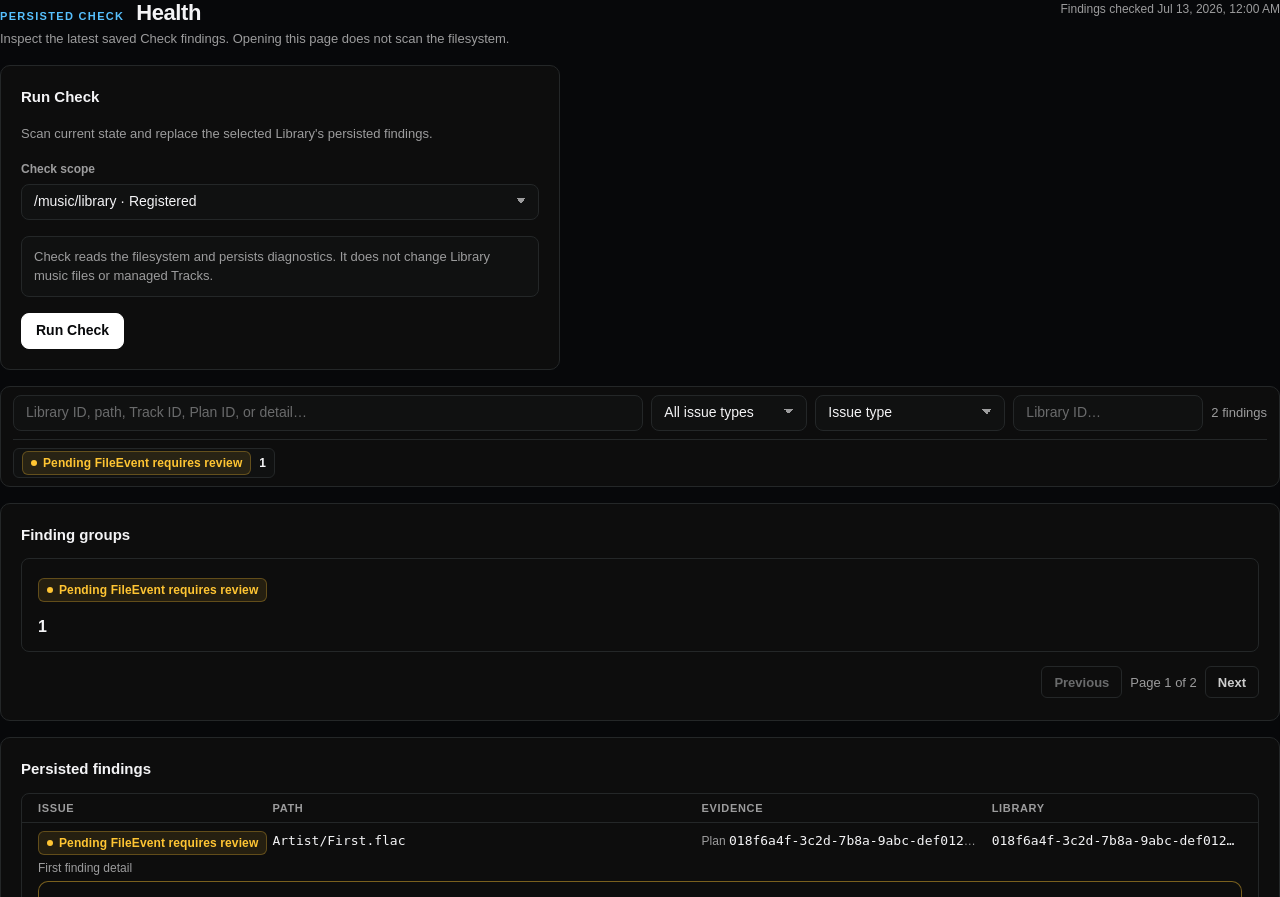
Test: Health inspection › bounds both Health collections and resets them for a changed filter
Check: the text "First finding detail" is shown, box x1=38 y1=861 x2=132 y2=875
Check: the button "Pending FileEvent requires review" is shown, box x1=38 y1=571 x2=1242 y2=607
Click the button with aria-label "Next page of Health groups" at {"x": 1232, "y": 682}, box x1=1205 y1=666 x2=1259 y2=698
(page scrolled)
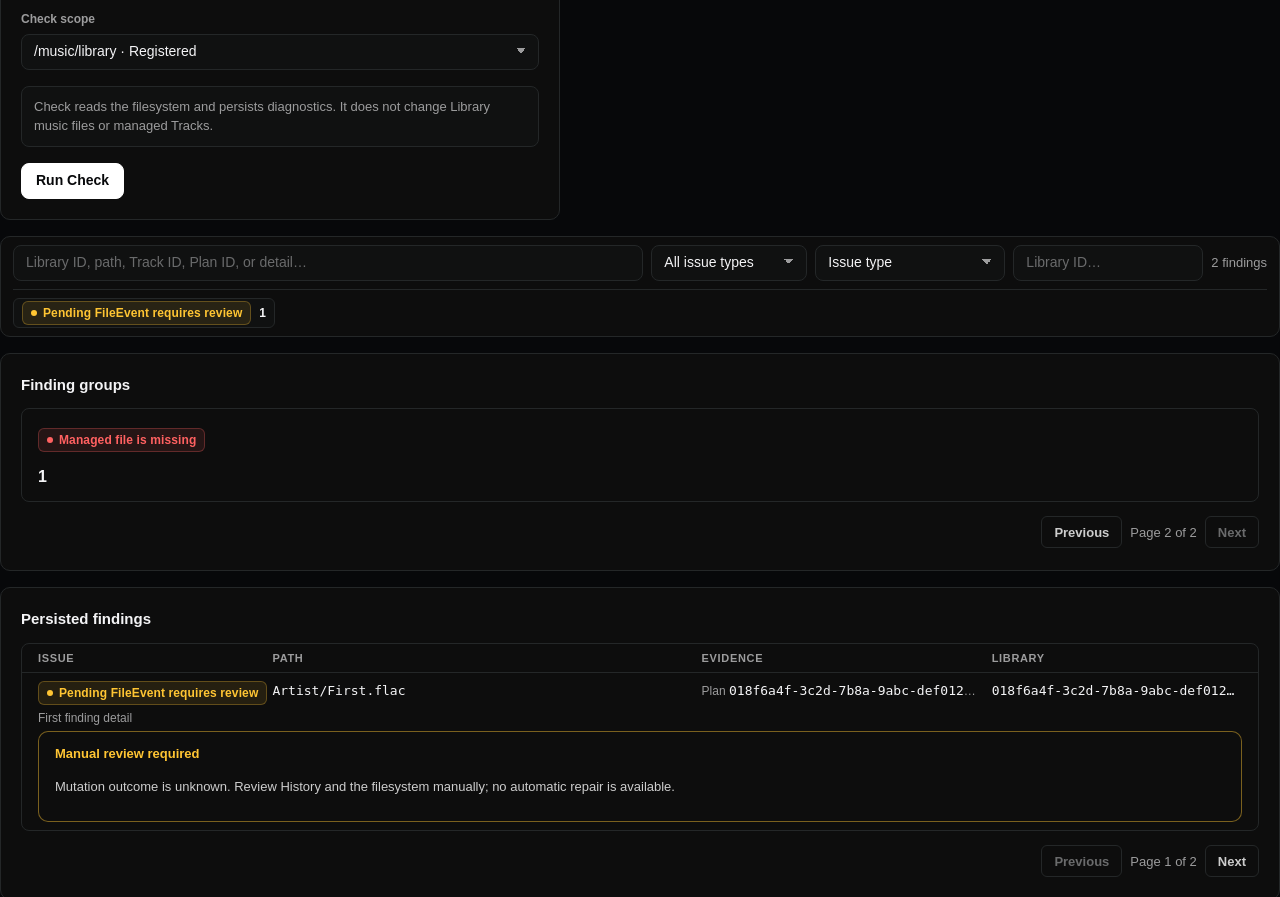
Check: the button "Managed file is missing" is shown, box x1=38 y1=421 x2=1242 y2=457
Click the button with aria-label "Next page of Findings" at {"x": 1232, "y": 861}, box x1=1205 y1=845 x2=1259 y2=877
(page scrolled)
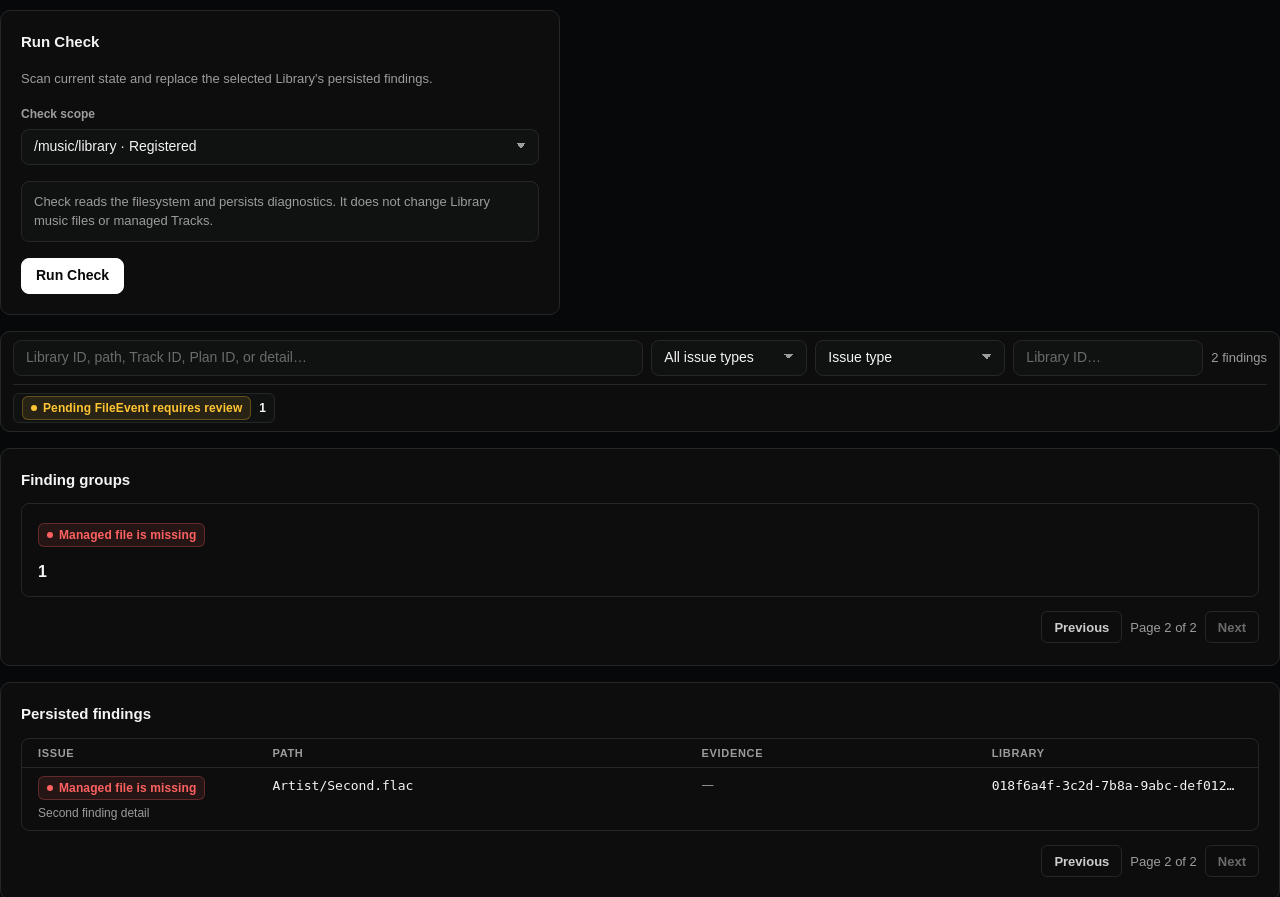
Check: the text "Second finding detail" is shown, box x1=38 y1=806 x2=149 y2=820
Check: the text "First finding detail" is gone
Select "Pending FileEvent requires review" in the 1st dropdown named "Issue type" at {"x": 729, "y": 358}, box x1=651 y1=340 x2=807 y2=376
(page scrolled)
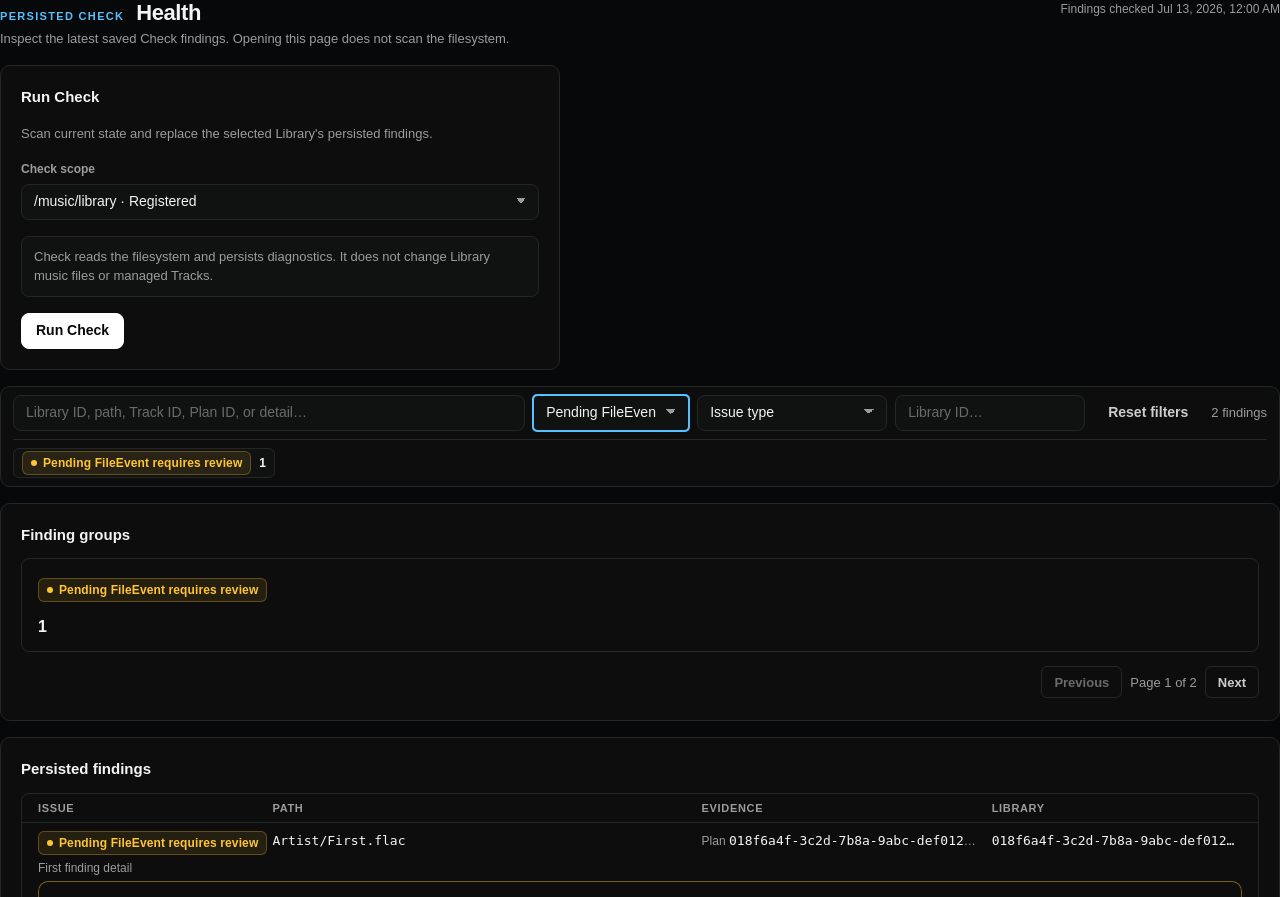
Check: the text "First finding detail" is shown, box x1=38 y1=861 x2=132 y2=875
Check: the button "Pending FileEvent requires review" is shown, box x1=38 y1=571 x2=1242 y2=607
Check: the text "Second finding detail" is gone
